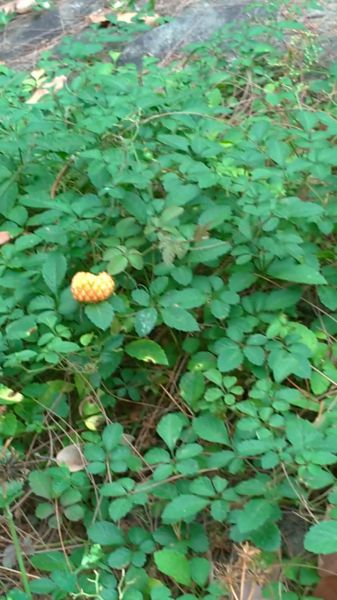eggs: (66, 263, 122, 308)
